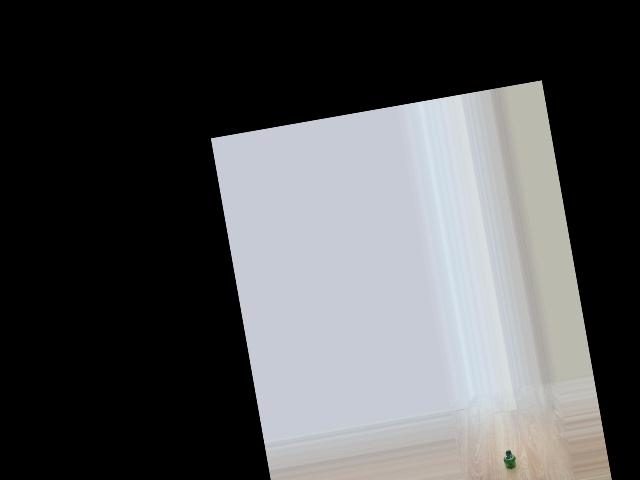beer: (502, 449, 517, 470)
